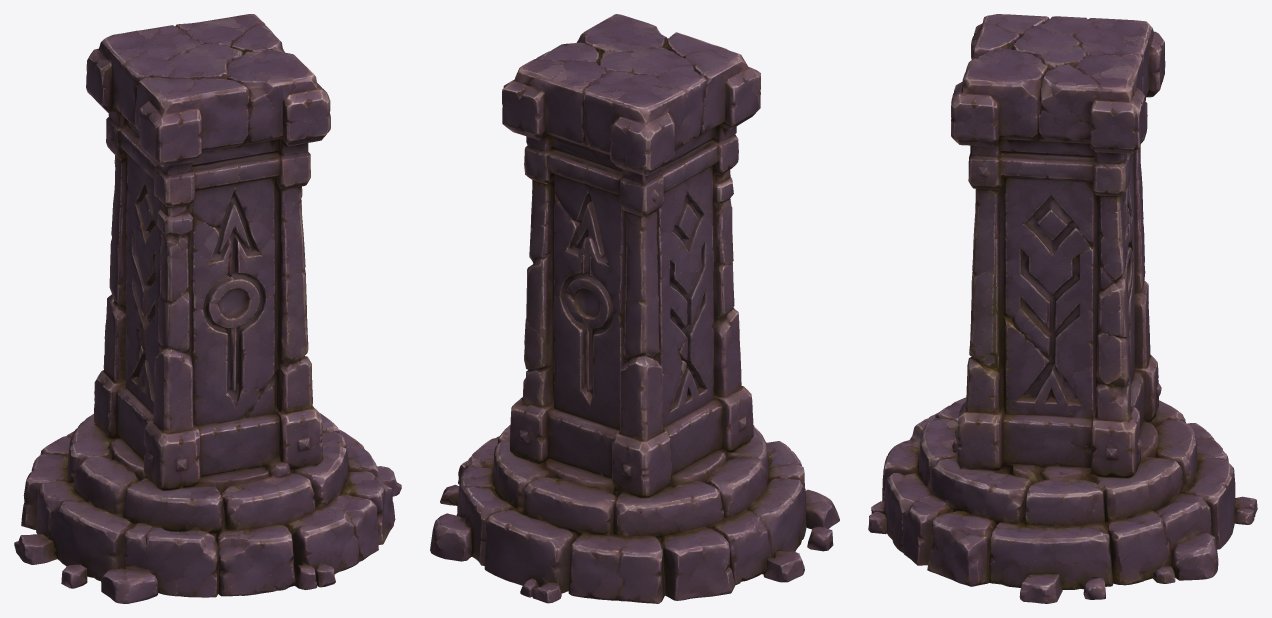
Rendered from rune_pillar.glb.
The picture shows the model from 3 angles, left to right: view 1: azimuth 30°, elevation 25°; view 2: azimuth 150°, elevation 25°; view 3: azimuth 270°, elevation 25°; orthographic projection.
Visible parts, largest first — view 1: tripo_node_d23006c2-787d-4ef8-aff1-20da7398efea; view 2: tripo_node_d23006c2-787d-4ef8-aff1-20da7398efea; view 3: tripo_node_d23006c2-787d-4ef8-aff1-20da7398efea.
Part boxes in pixels (x1,y1,x2,y2): tripo_node_d23006c2-787d-4ef8-aff1-20da7398efea: (14,14,401,603); tripo_node_d23006c2-787d-4ef8-aff1-20da7398efea: (430,14,839,603); tripo_node_d23006c2-787d-4ef8-aff1-20da7398efea: (868,14,1257,603).
Bounding box in the file's own units: 0.798 × 1 × 0.7532.
Materials: 1 (1 with a texture image).
